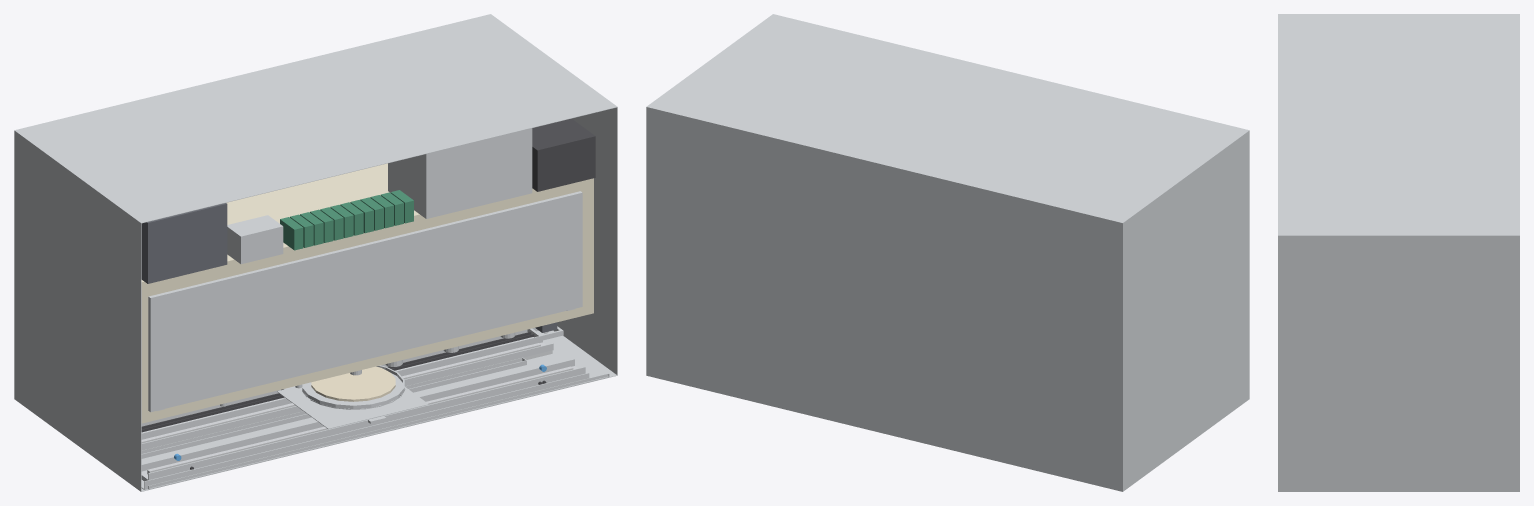
The model's file is sim_topping_v1.glb.
3 views of the same model, side by side, from view 1: azimuth 30°, elevation 25°; view 2: azimuth 150°, elevation 25°; view 3: azimuth 270°, elevation 25° (orthographic). The views are drawn at different scales.
Visible parts, largest first — view 1: SABIT.sac, SABIT.pu, SABIT.koyu, SABIT.motor, SABIT.kart, SABIT.celik, ARABA.sac, PIDE.hamur, TEPSI.sac; view 2: SABIT.sac; view 3: SABIT.sac.
Boxes of the visible parts, <box> form: SABIT.sac: <box>14,14,617,491</box>; SABIT.pu: <box>141,163,593,423</box>; SABIT.koyu: <box>141,118,595,469</box>; SABIT.motor: <box>141,203,557,332</box>; SABIT.kart: <box>280,190,413,250</box>; SABIT.celik: <box>141,309,577,481</box>; ARABA.sac: <box>277,387,428,429</box>; PIDE.hamur: <box>311,366,395,401</box>; TEPSI.sac: <box>302,365,404,408</box>; SABIT.sac: <box>646,14,1249,491</box>; SABIT.sac: <box>1278,14,1519,491</box>.
Size of the model in its own units: 1.8 by 0.97 by 0.83.
